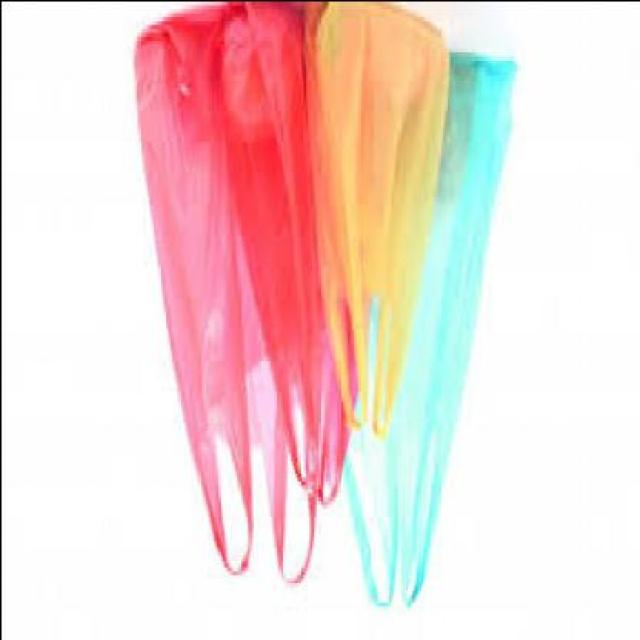PLASTIC: (137, 5, 317, 589), (344, 58, 519, 610), (219, 4, 363, 507), (314, 4, 454, 438)
